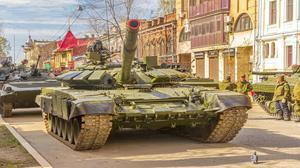t72: (42, 19, 249, 148)
